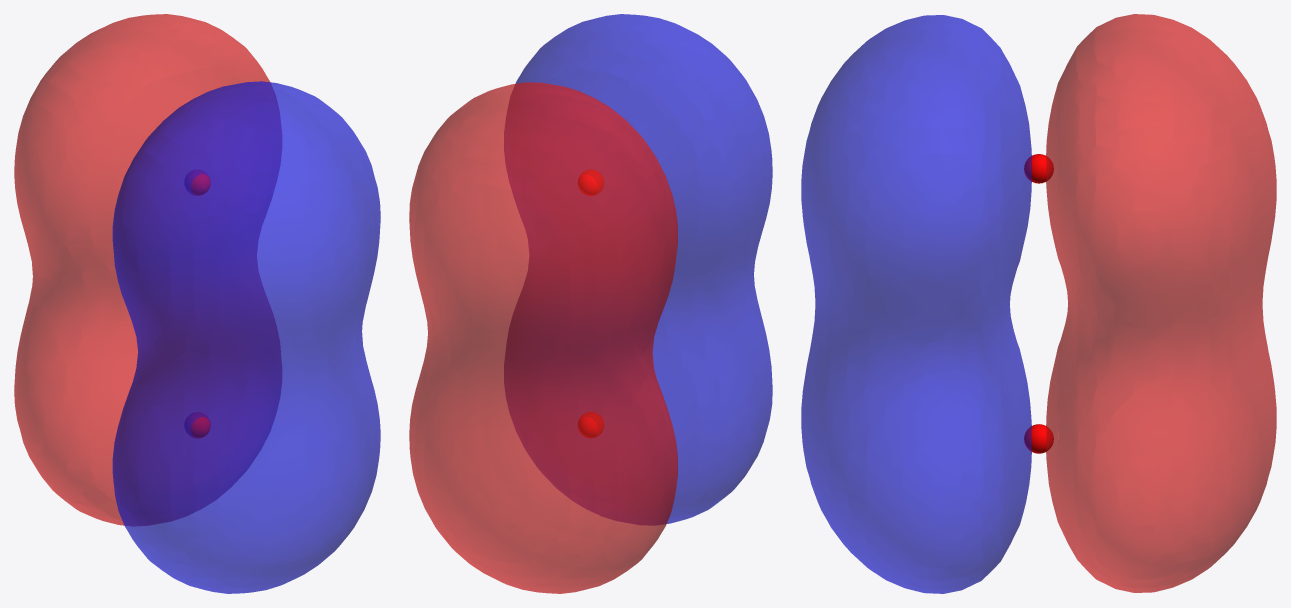
Rendered from pi_molecular_orbital_of_di-oxygen.glb.
The picture shows the model from 3 angles, left to right: view 1: azimuth 30°, elevation 25°; view 2: azimuth 150°, elevation 25°; view 3: azimuth 270°, elevation 25°; orthographic projection. The views are drawn at different scales.
Visible parts, largest first — view 1: Object_2, Object_3, Object_4; view 2: Object_3, Object_2, Object_4; view 3: Object_3, Object_2, Object_4.
Part boxes in pixels (left/top/right/bottom): Object_2: left=112, top=81, right=380, bottom=593; Object_3: left=14, top=14, right=281, bottom=525; Object_4: left=184, top=170, right=210, bottom=438; Object_3: left=409, top=82, right=677, bottom=593; Object_2: left=504, top=14, right=772, bottom=524; Object_4: left=577, top=170, right=603, bottom=438; Object_3: left=1046, top=14, right=1276, bottom=592; Object_2: left=801, top=15, right=1031, bottom=593; Object_4: left=1024, top=154, right=1053, bottom=453.
Bounding box in the file's own units: 1290 × 2457 × 1926.
